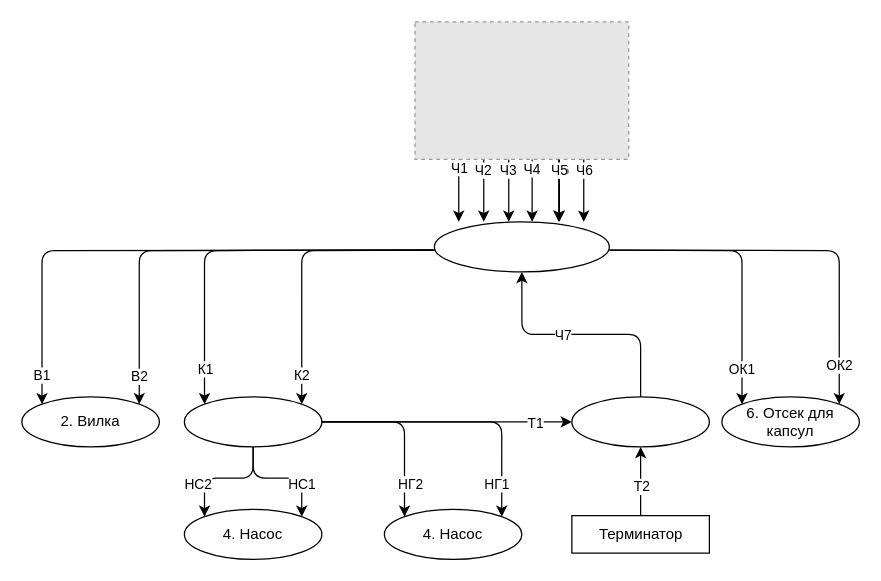
This 881x581 diagram has some shape labels left out. Grey dashed boxes stand in for pictures. Each missing label, with the centre of its shape:
"1. Капсульная кофемашина" belongs at (521,246).
"3. Кнопка" belongs at (252,421).
"5. Таймер" belongs at (640,421).
